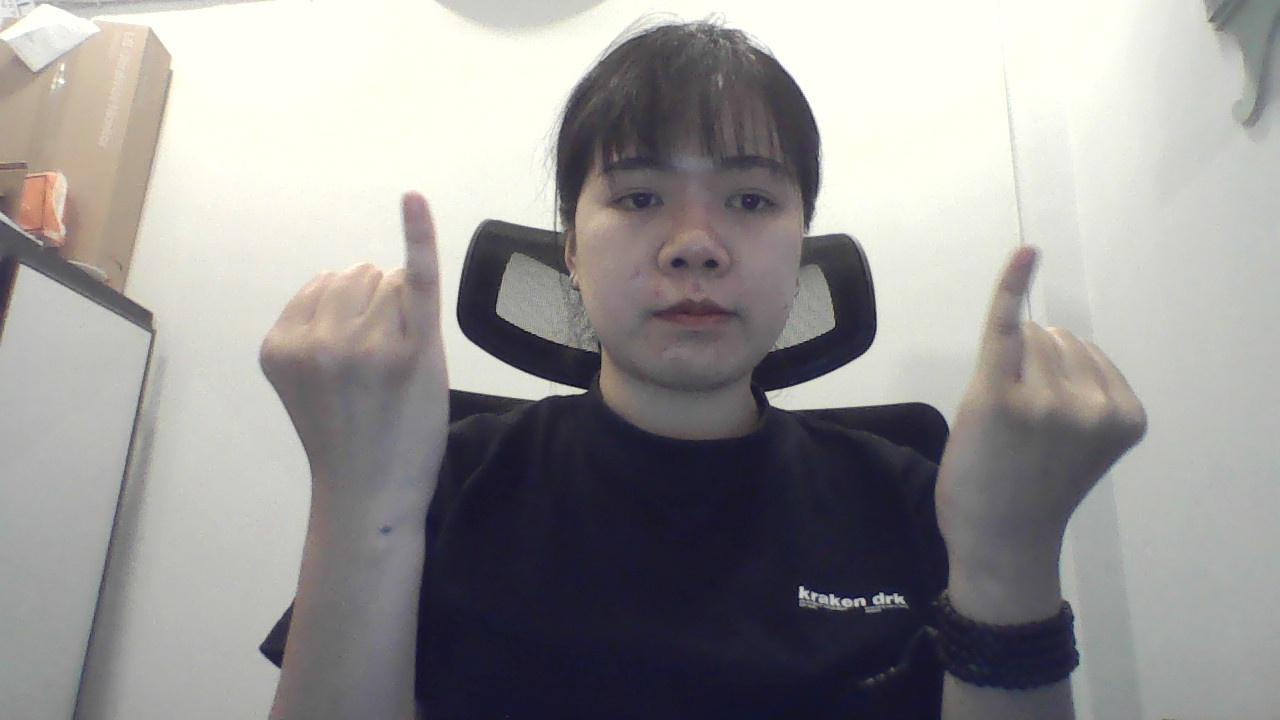I: (927, 225, 1152, 614), (267, 197, 448, 534)
